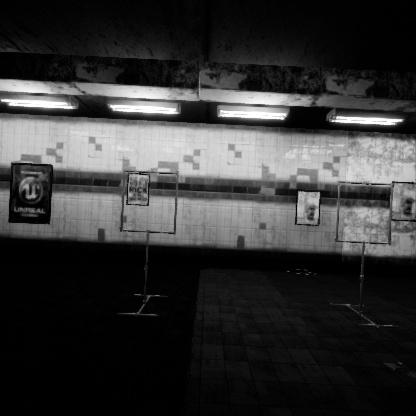gate: (120, 181, 184, 246), (336, 170, 399, 235)
